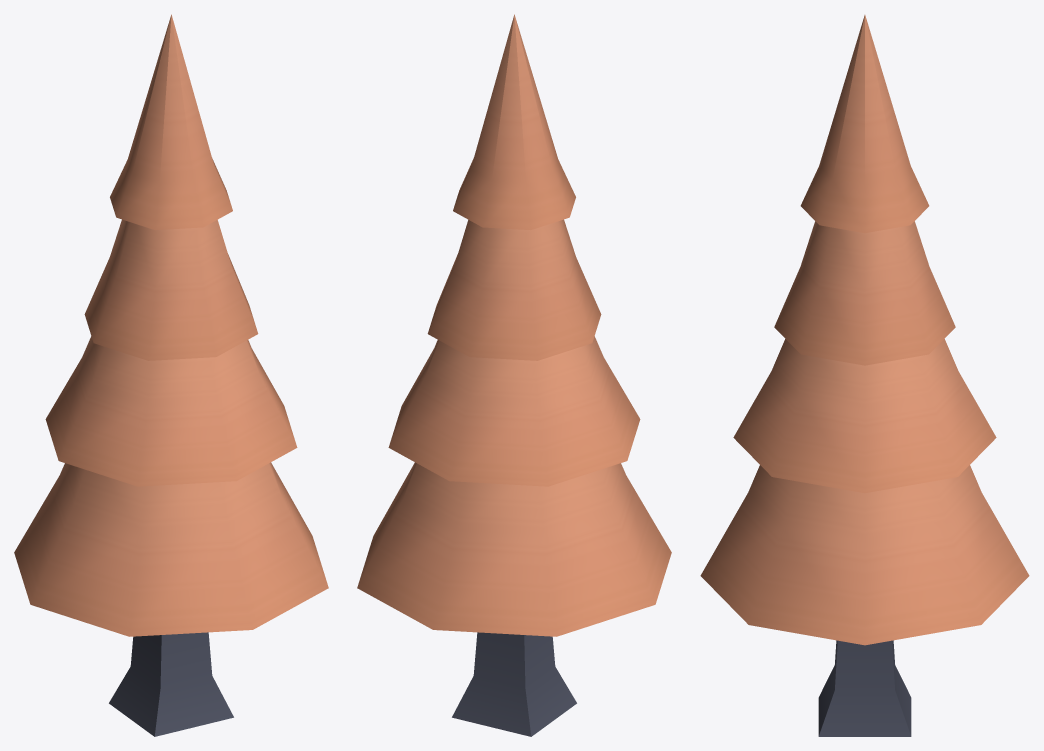
Rendered from tree.glb.
3 renders of one model, left to right at view 1: azimuth 30°, elevation 25°; view 2: azimuth 150°, elevation 25°; view 3: azimuth 270°, elevation 25°, orthographic.
Visible parts, largest first — view 1: tree; view 2: tree; view 3: tree.
Boxes of the visible parts, x1,y1,x2,y2 form: tree: (14, 14, 328, 736); tree: (357, 14, 671, 736); tree: (700, 15, 1029, 736).
Bounding box in the file's own units: 1.02 × 2.41 × 1.02.
Materials: 1 (1 with a texture image).
